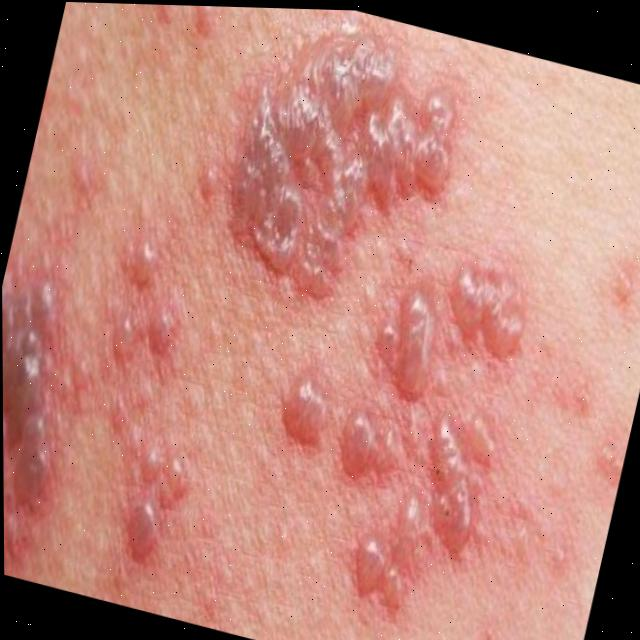Shingles: (2, 263, 235, 607), (215, 14, 454, 305), (235, 373, 488, 613), (393, 276, 531, 409)
